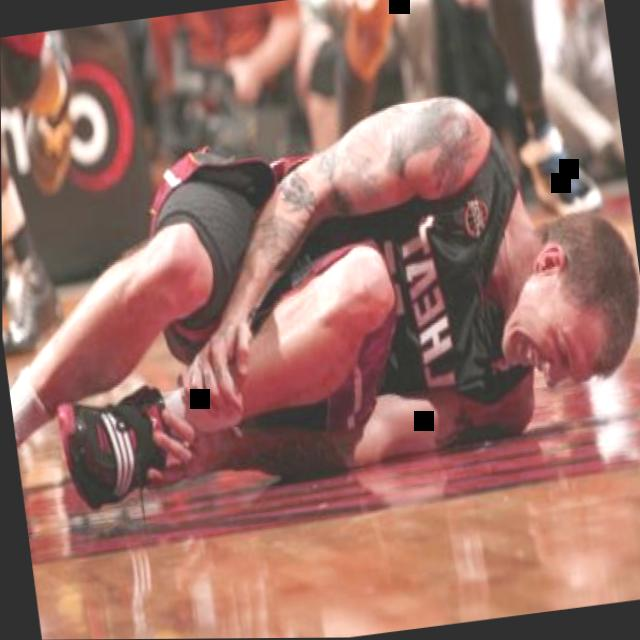Fall-Detected: (0, 41, 640, 508)
